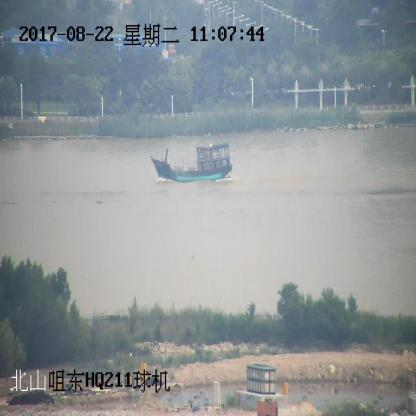Fishing Boat: (153, 140, 232, 184)
